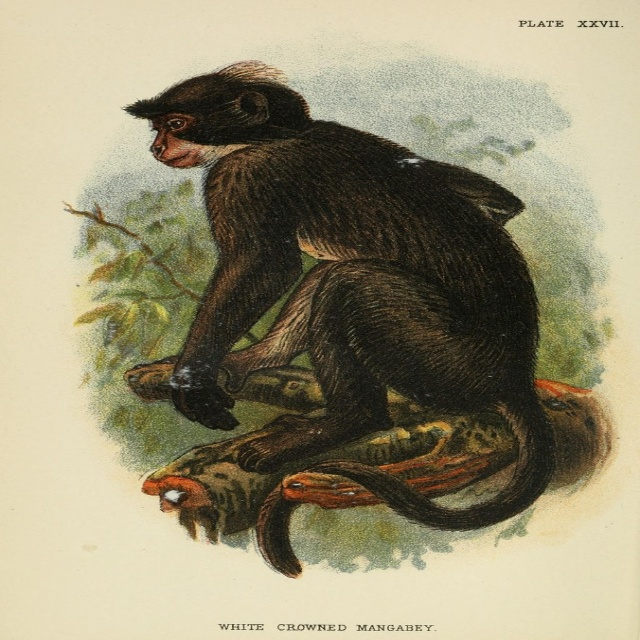Monkey: (122, 61, 556, 574)
